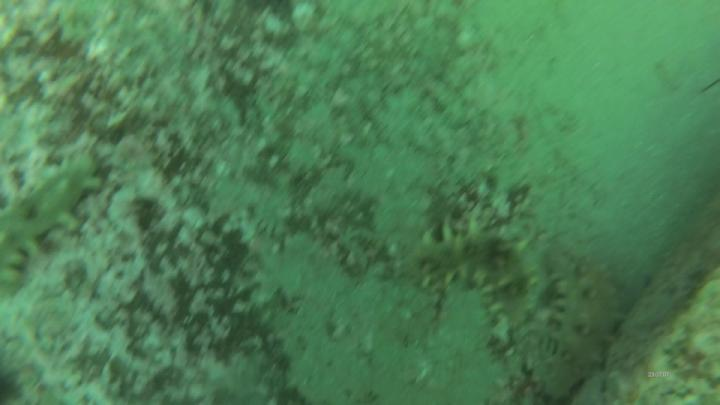holothurian: (1, 156, 105, 282), (422, 220, 537, 329), (556, 259, 628, 367)
